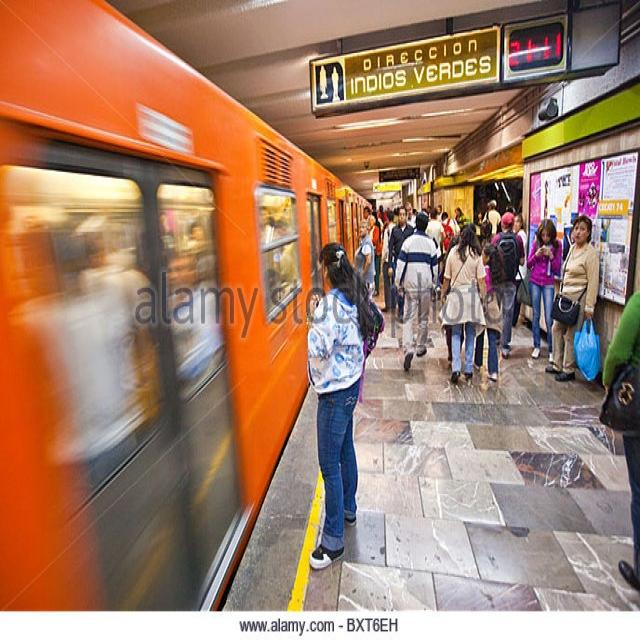body: (11, 182, 222, 603), (303, 241, 387, 577), (598, 285, 640, 593), (543, 213, 603, 384), (436, 222, 490, 385), (393, 208, 441, 374), (251, 181, 305, 322), (488, 209, 526, 362), (525, 218, 564, 366), (473, 241, 507, 382), (438, 226, 465, 365), (387, 204, 415, 324), (463, 179, 523, 233), (536, 174, 606, 214), (512, 212, 530, 328), (353, 219, 377, 302), (380, 209, 397, 314), (366, 198, 403, 245), (424, 208, 443, 294), (369, 212, 382, 296), (480, 199, 503, 241), (306, 228, 321, 289), (437, 210, 456, 256), (419, 198, 447, 228), (403, 199, 419, 233), (454, 206, 469, 231), (362, 205, 371, 219)
